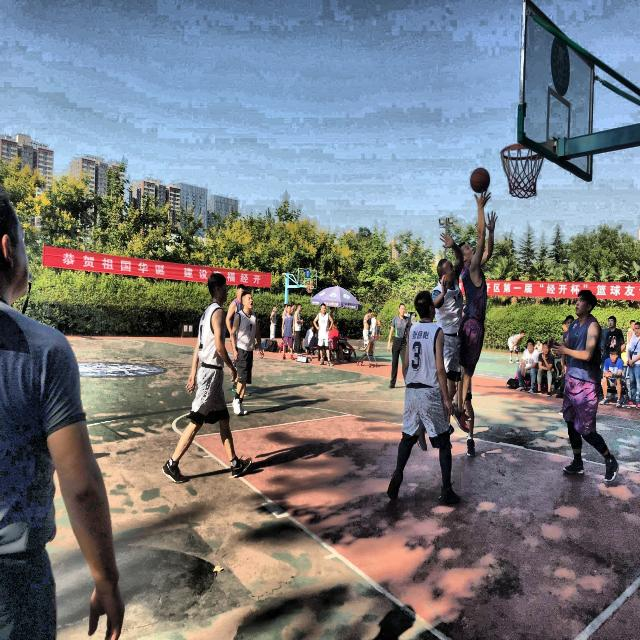board: (471, 168, 490, 194)
rim: (501, 144, 543, 198)
